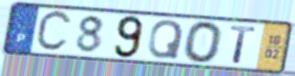8: (74, 14, 105, 54)
9: (111, 14, 147, 60)
C: (34, 8, 75, 55)
O: (182, 20, 225, 65)
Q: (146, 18, 186, 60)
T: (228, 24, 258, 65)
